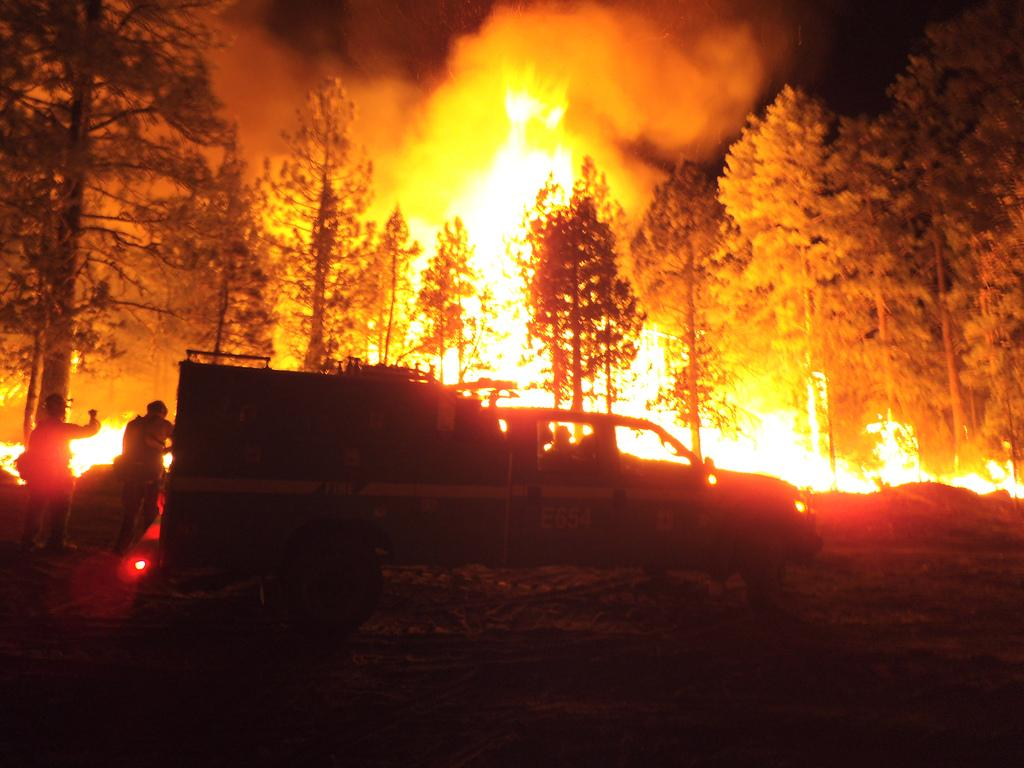fire: (712, 416, 924, 488), (464, 144, 566, 228), (482, 248, 540, 394)
